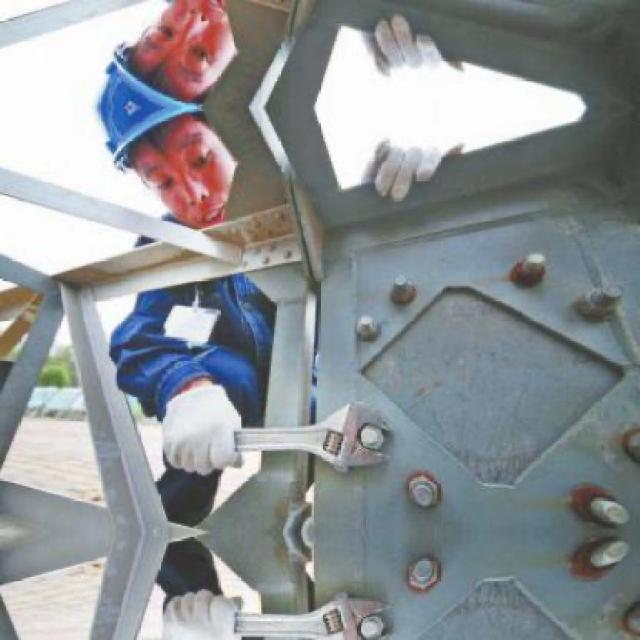helmet: (86, 108, 248, 234), (85, 0, 248, 106)
